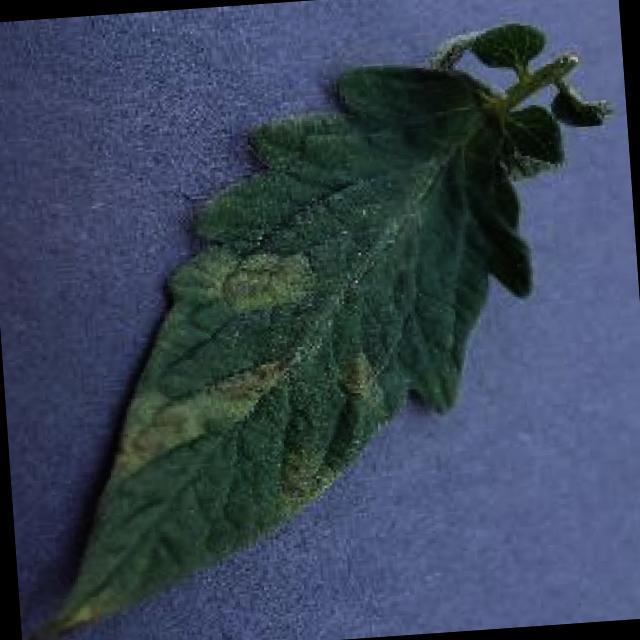Tomato mold leaf: (12, 48, 594, 640)
